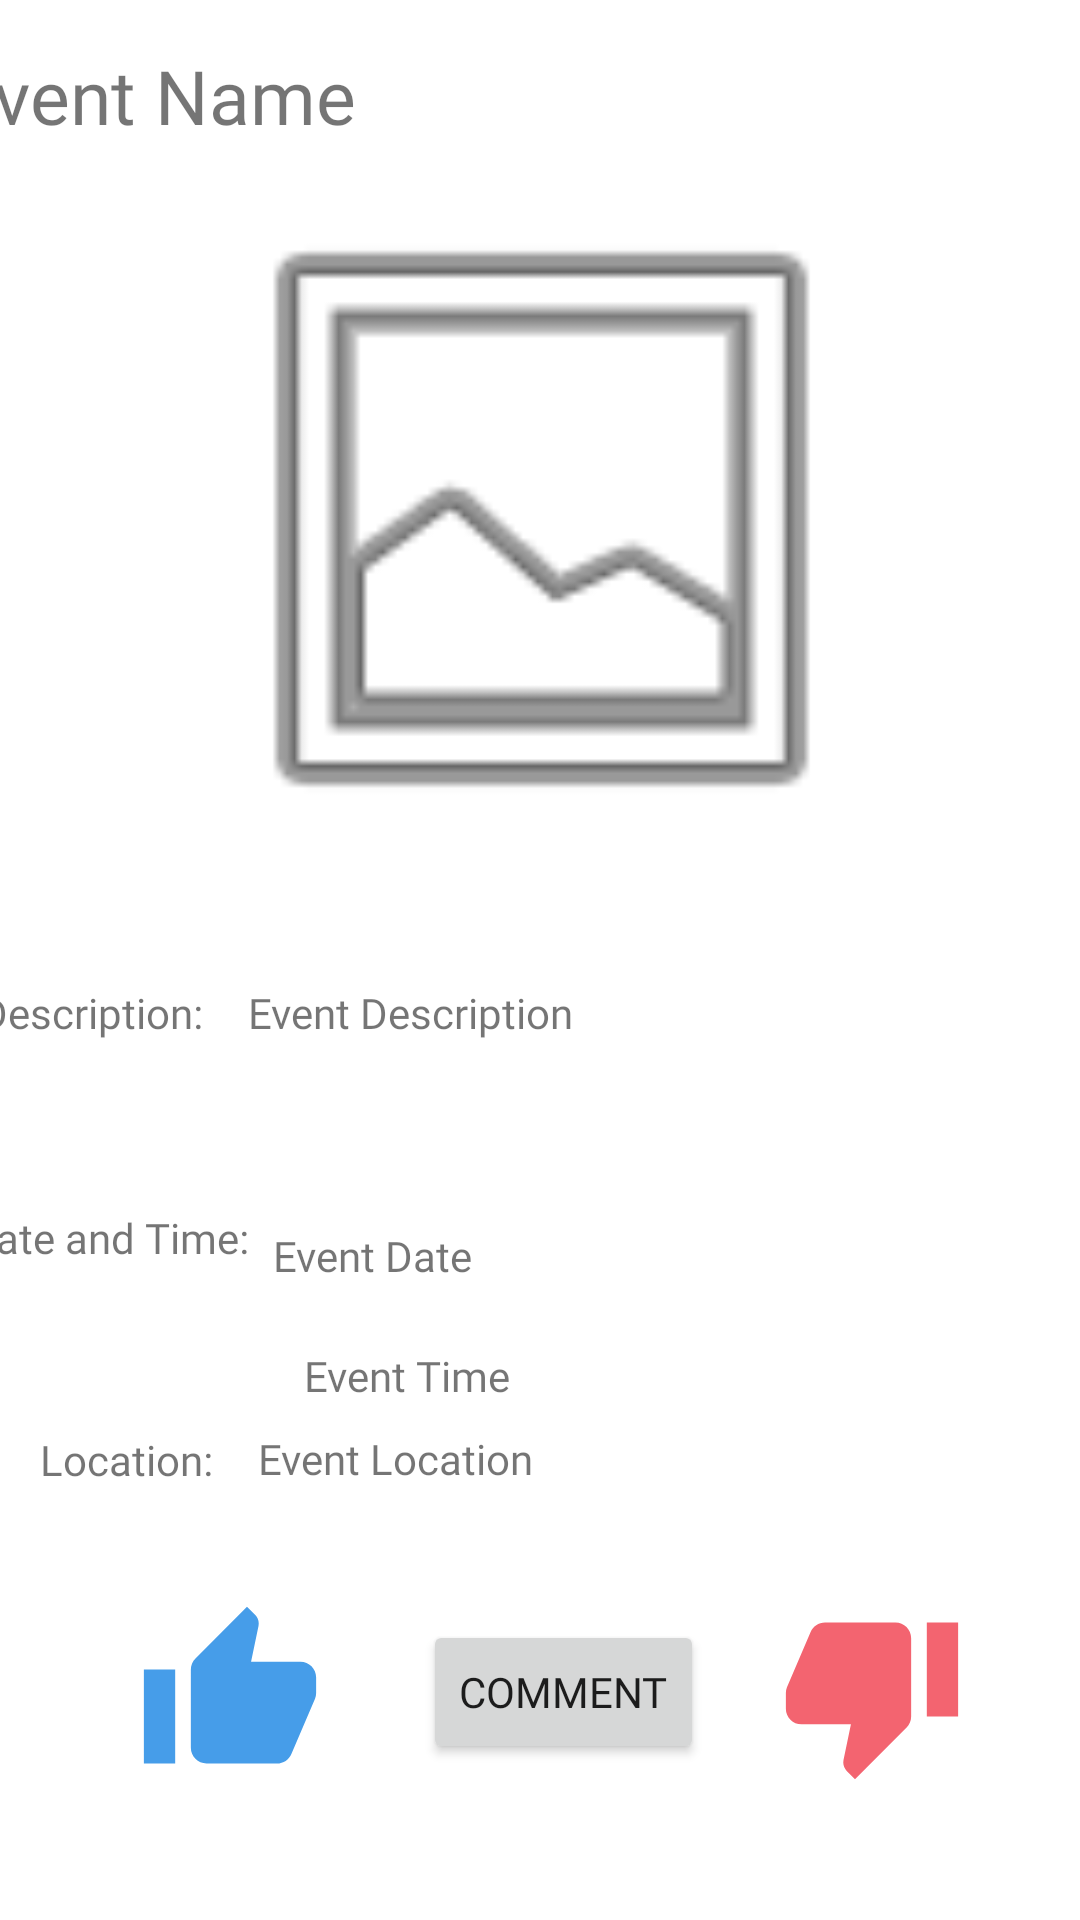

Named icons in this screenshot (1080w x 1920h) and their centers, (x=x, y=y):
thumbsdown: (x=872, y=1700)
thumbsup: (x=230, y=1685)
